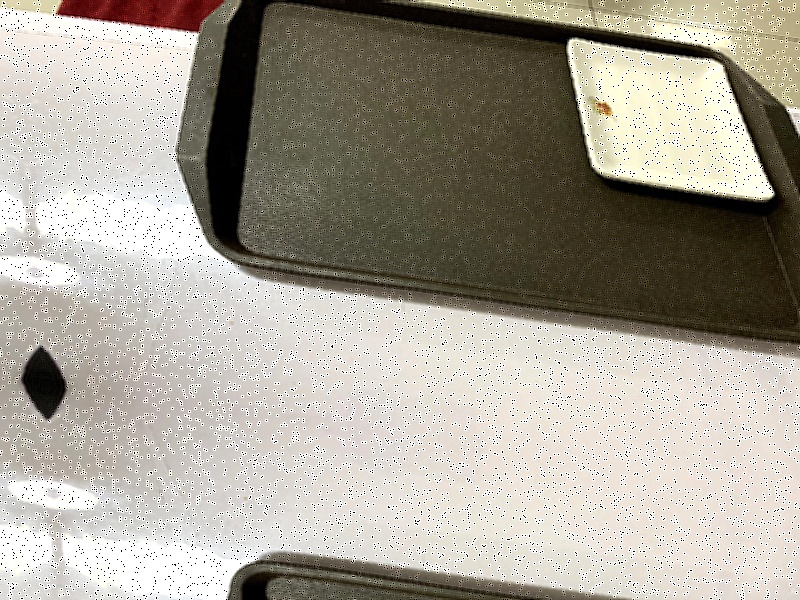dish4: (561, 29, 778, 212)
